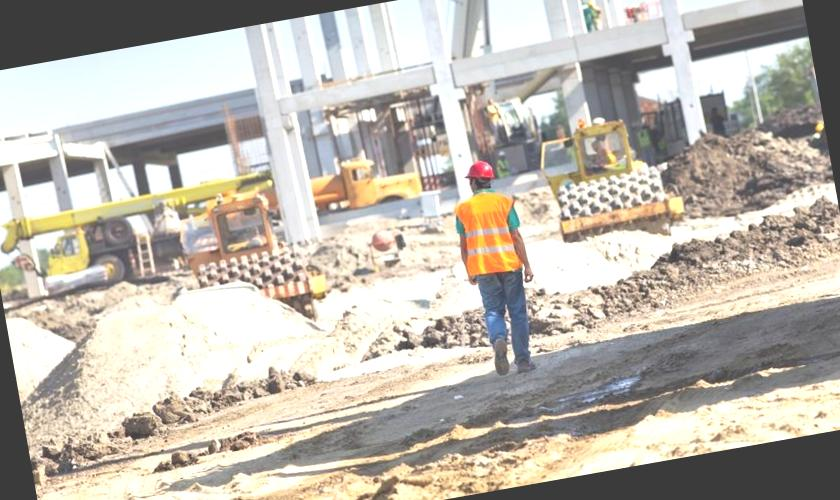helmet: (460, 156, 500, 185)
person: (438, 145, 556, 386)
